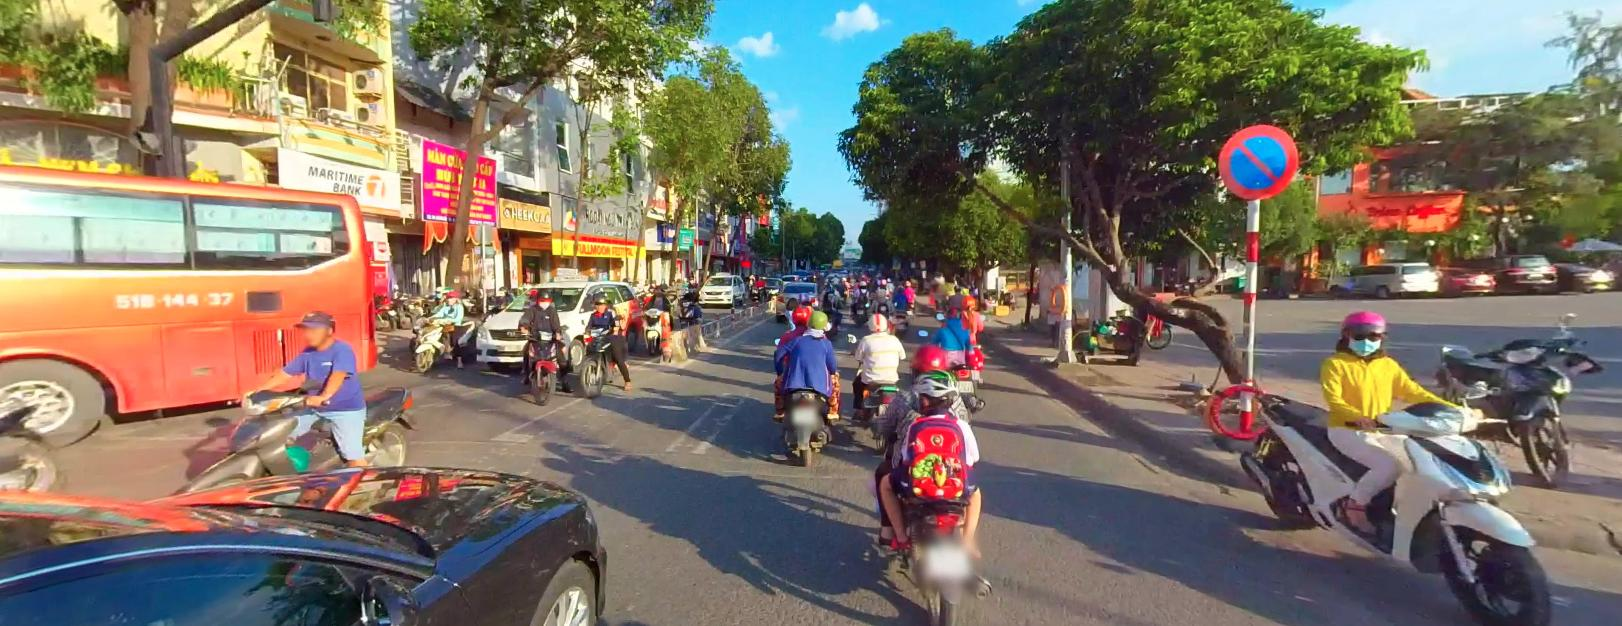Cam dung va do: (1216, 122, 1297, 198)
